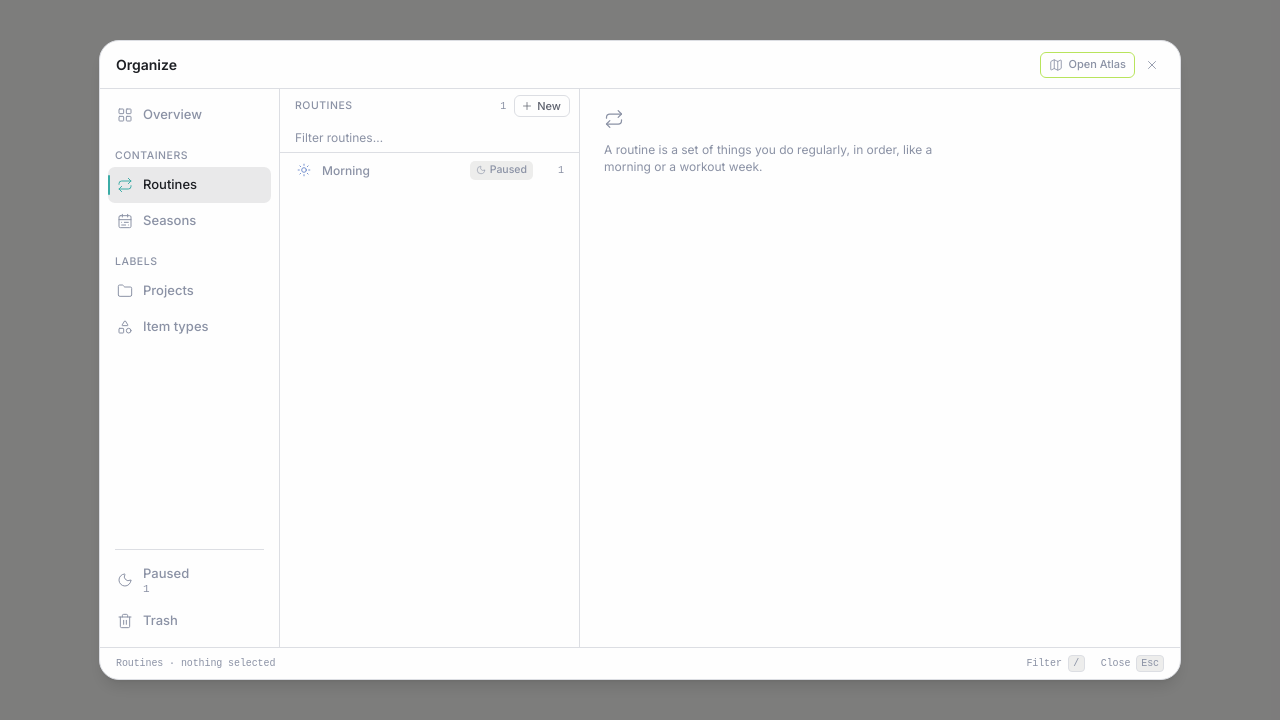
Scenario: IN N SEASONS — the reverse view › never says a live season is CARRYING a routine the user switched off
Click the button with test id "routine-row".
click(346, 170)  # box 288,153 -> 571,187
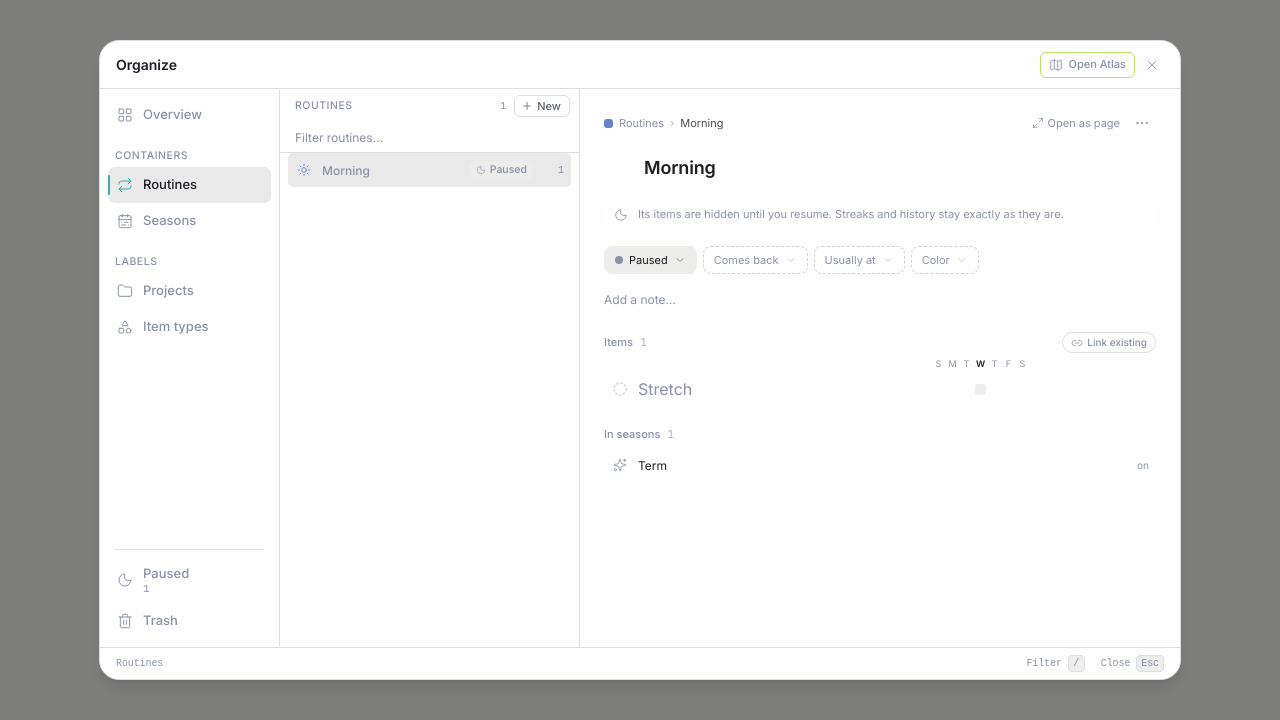
Check: the button with test id "routine-holder" does not show "carrying", box 604,450 -> 1156,480
Check: the element with test id "routine-paused-note" is shown, box 604,199 -> 1156,230
